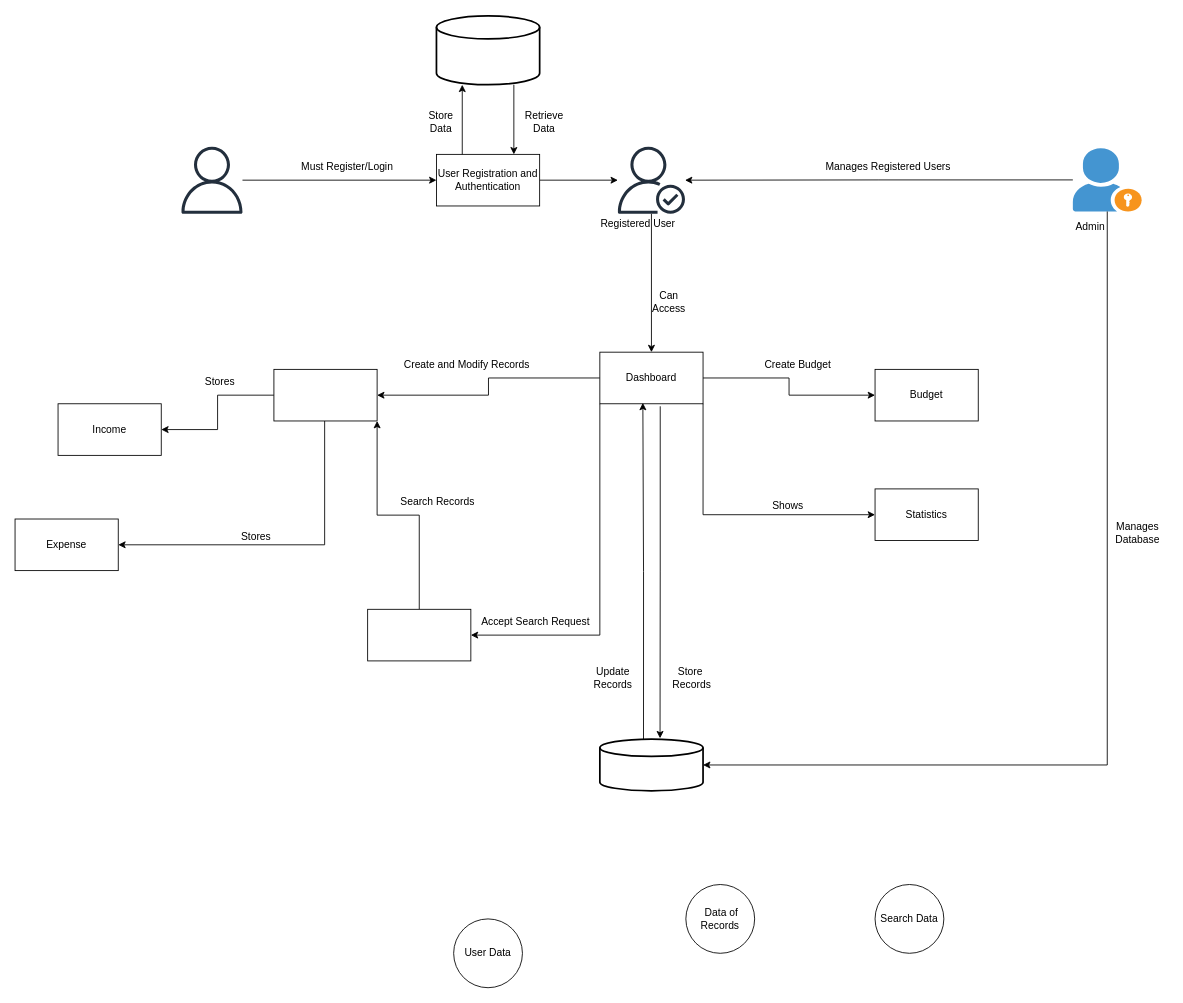
This 1183x1003 diagram has some shape labels left out. Here are the shapes that lost their labels. From the top down, the centre of each, then its label:
point (487, 50): Login Credential Database
point (211, 179): User
point (325, 395): Records
point (419, 634): Search Bar
point (651, 764): Database
